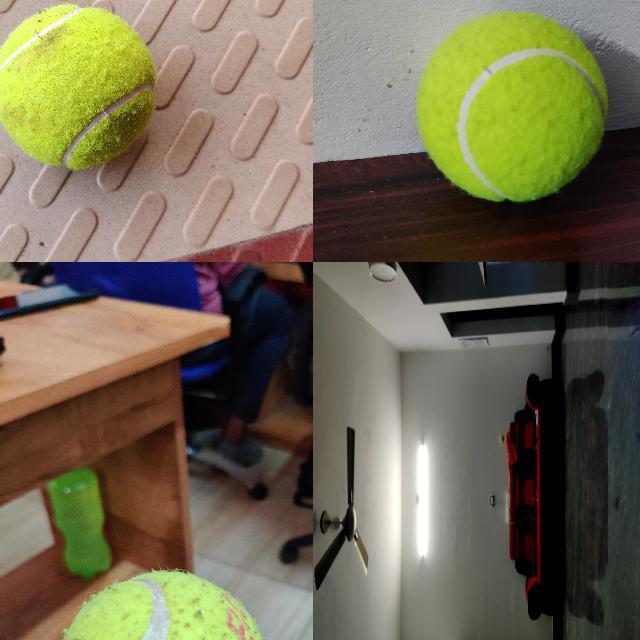tennis-ball: (415, 10, 607, 203), (0, 3, 155, 170), (54, 570, 271, 639), (499, 436, 504, 444)
